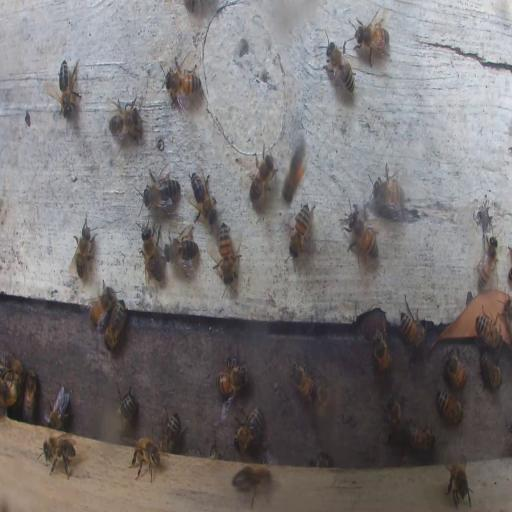bee: (352, 8, 391, 67), (280, 133, 309, 208), (324, 37, 356, 97), (371, 163, 405, 218), (343, 205, 378, 258), (249, 147, 277, 211), (71, 210, 96, 280), (139, 221, 166, 284), (143, 169, 181, 211), (42, 433, 78, 476), (216, 352, 248, 400), (56, 58, 82, 117), (232, 463, 272, 501), (108, 98, 140, 144), (399, 299, 427, 350), (216, 222, 239, 284), (189, 171, 216, 223), (129, 438, 161, 481), (288, 202, 312, 258), (166, 230, 200, 268), (234, 407, 262, 452), (446, 456, 470, 507), (87, 282, 114, 326), (104, 300, 127, 350), (161, 69, 202, 97), (44, 385, 69, 429), (476, 238, 498, 288), (289, 360, 315, 402), (436, 388, 465, 425), (381, 394, 403, 442), (475, 310, 502, 349), (443, 349, 467, 390), (315, 374, 332, 428), (406, 422, 436, 452), (372, 330, 392, 374), (162, 412, 182, 453), (115, 385, 136, 424), (22, 369, 38, 419), (480, 352, 502, 388), (2, 354, 24, 380), (314, 450, 330, 468)
